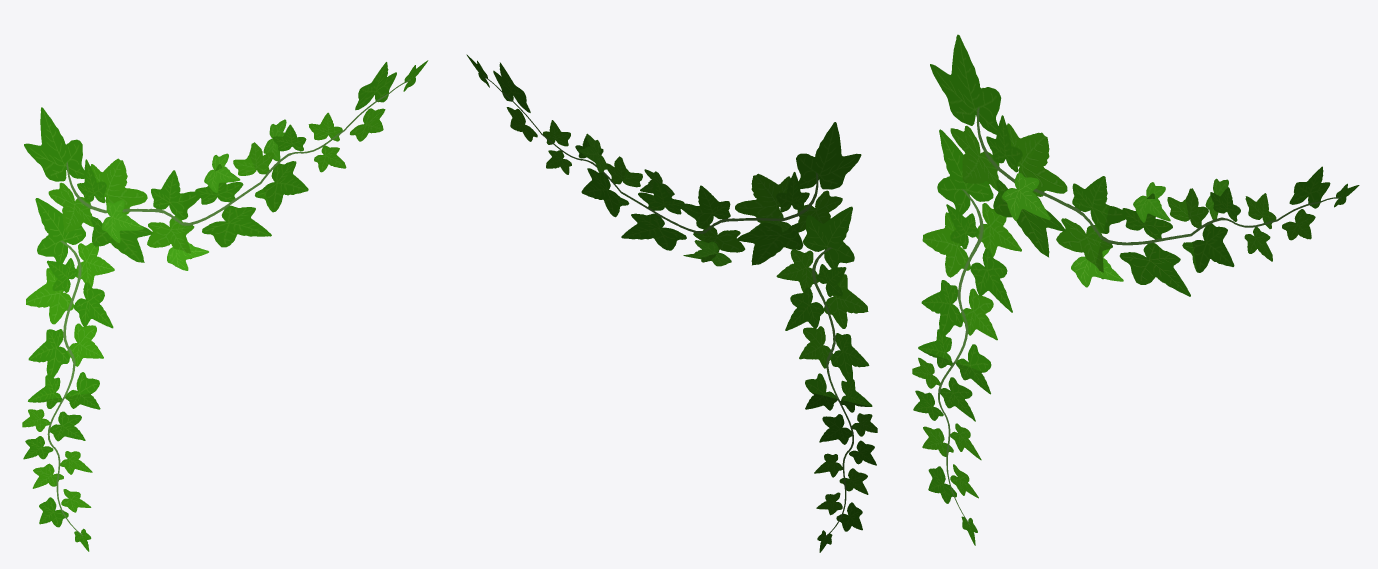
Rendered from PT_Ivy_06.fbx.
3 views of the same model, side by side, from view 1: azimuth 30°, elevation 25°; view 2: azimuth 150°, elevation 25°; view 3: azimuth 330°, elevation 25° (orthographic). The views are drawn at different scales.
Visible parts, largest first — view 1: PT_Ivy_06; view 2: PT_Ivy_06; view 3: PT_Ivy_06.
Part boxes in pixels (bbox=[...]): PT_Ivy_06: bbox=[22, 60, 428, 551]; PT_Ivy_06: bbox=[466, 54, 877, 552]; PT_Ivy_06: bbox=[912, 34, 1359, 545].
Size of the model in its own units: 137 by 147 by 11.39.
